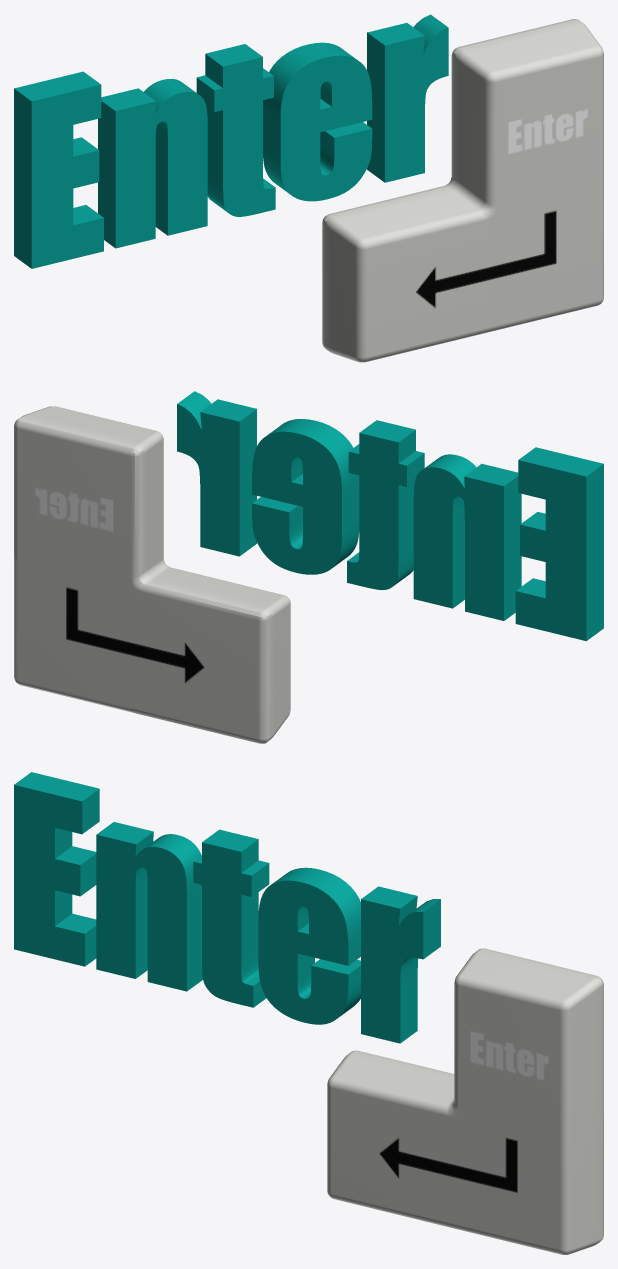
Rendered from HSBC Entorno_10_CAPAS_BOTONES Finanzas 2.fbx.
3 views of the same model, one above another, from view 1: azimuth 30°, elevation 25°; view 2: azimuth 150°, elevation 25°; view 3: azimuth 330°, elevation 25° (orthographic).
Visible parts, largest first — view 1: letras_enter.001, enter.001; view 2: letras_enter.001, enter.001; view 3: letras_enter.001, enter.001.
Part boxes in pixels (left/top/right/bottom): letras_enter.001: left=14, top=14, right=448, bottom=268; enter.001: left=322, top=19, right=603, bottom=362; letras_enter.001: left=177, top=391, right=603, bottom=641; enter.001: left=14, top=406, right=290, bottom=743; letras_enter.001: left=14, top=772, right=440, bottom=1043; enter.001: left=327, top=948, right=603, bottom=1254.
Size of the model in its own units: 140 by 80.36 by 14.61.
